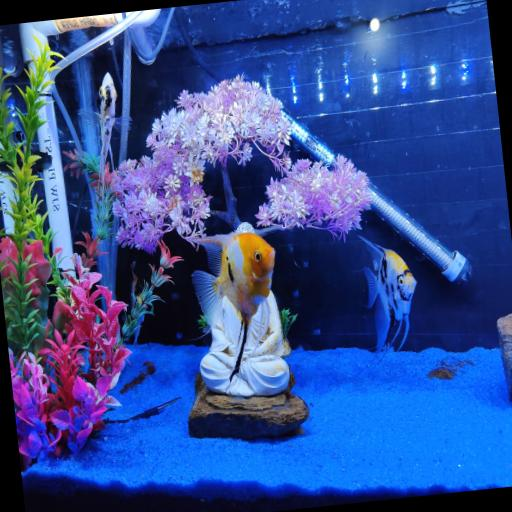Fish: (192, 233, 274, 379), (359, 237, 415, 352), (78, 73, 121, 183), (99, 73, 116, 181)
